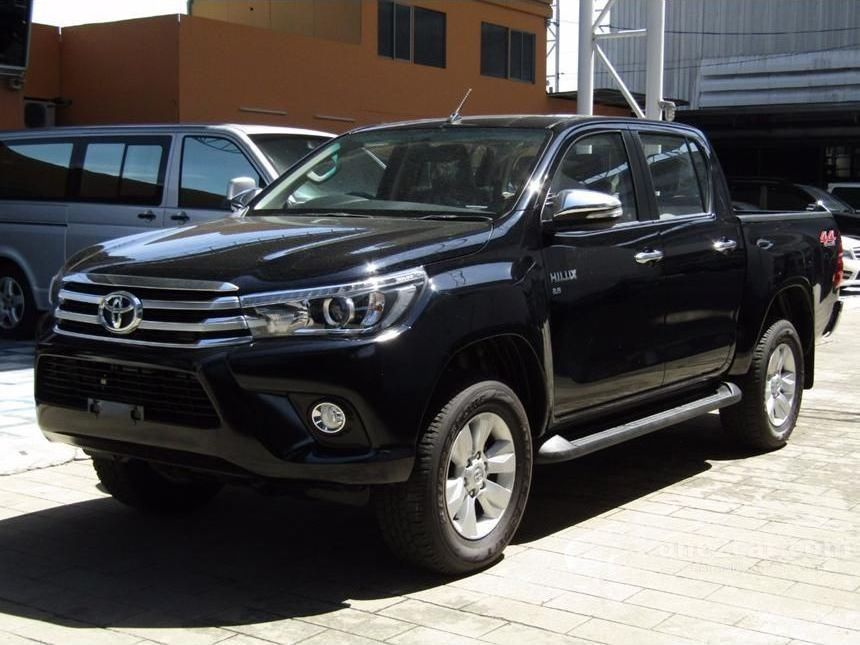pickup: (33, 107, 846, 575)
